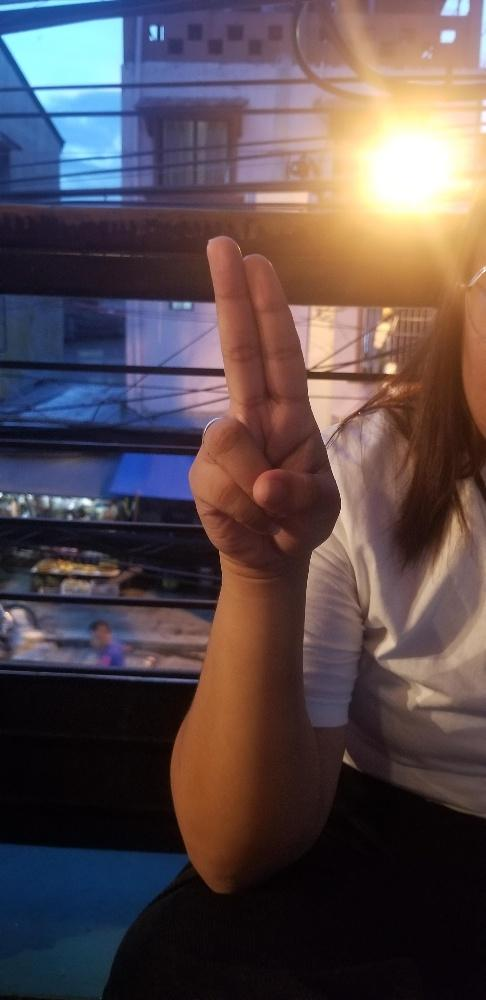u: (185, 233, 342, 570)
